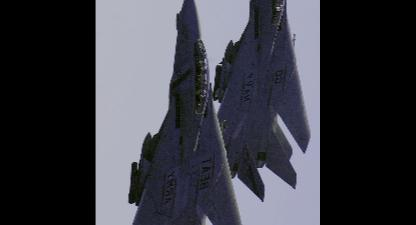EF2000: (108, 0, 246, 224), (213, 0, 312, 203)
